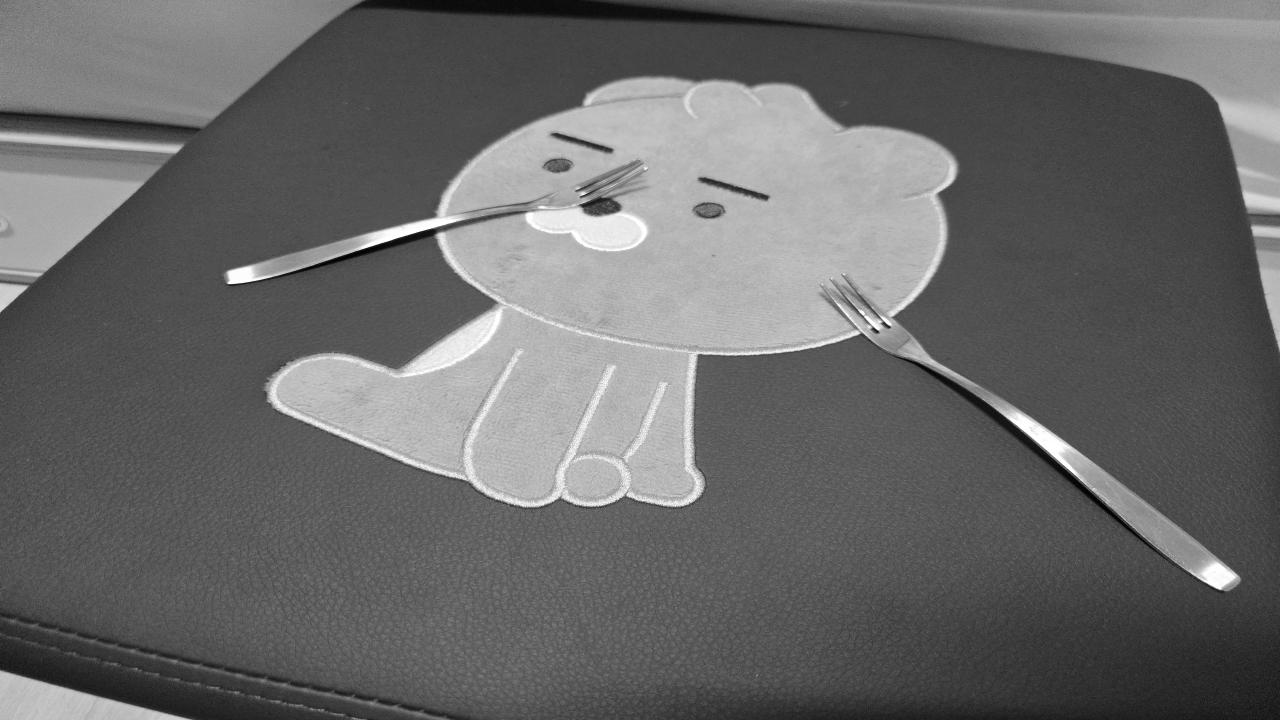fork: (830, 275, 1239, 591), (224, 156, 646, 289)
